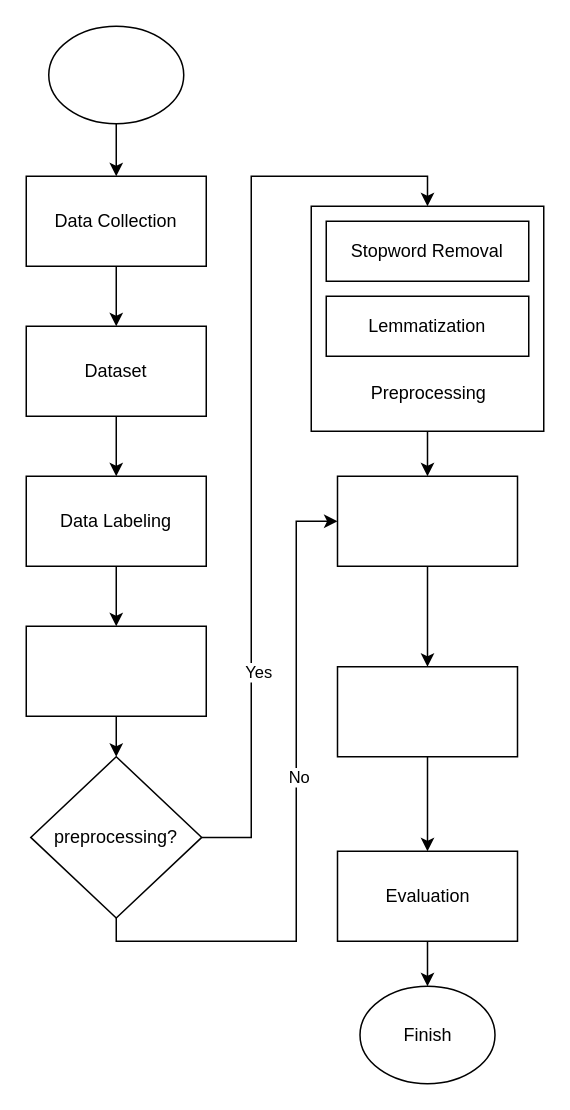
This 570x1110 diagram has some shape labels left out. The centre of each missing label's shape, as x and y in pixels:
Data Cleaning: the point at 115,670
Feature Extraction: the point at 427,520
Prediction and Classification: the point at 427,711
Start: the point at 115,74
